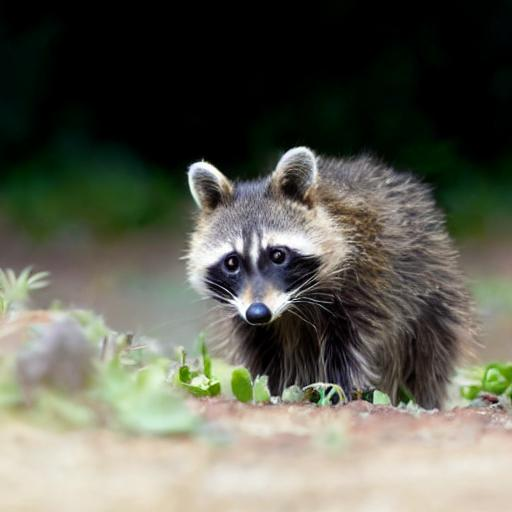raccoon: (170, 137, 482, 411)
